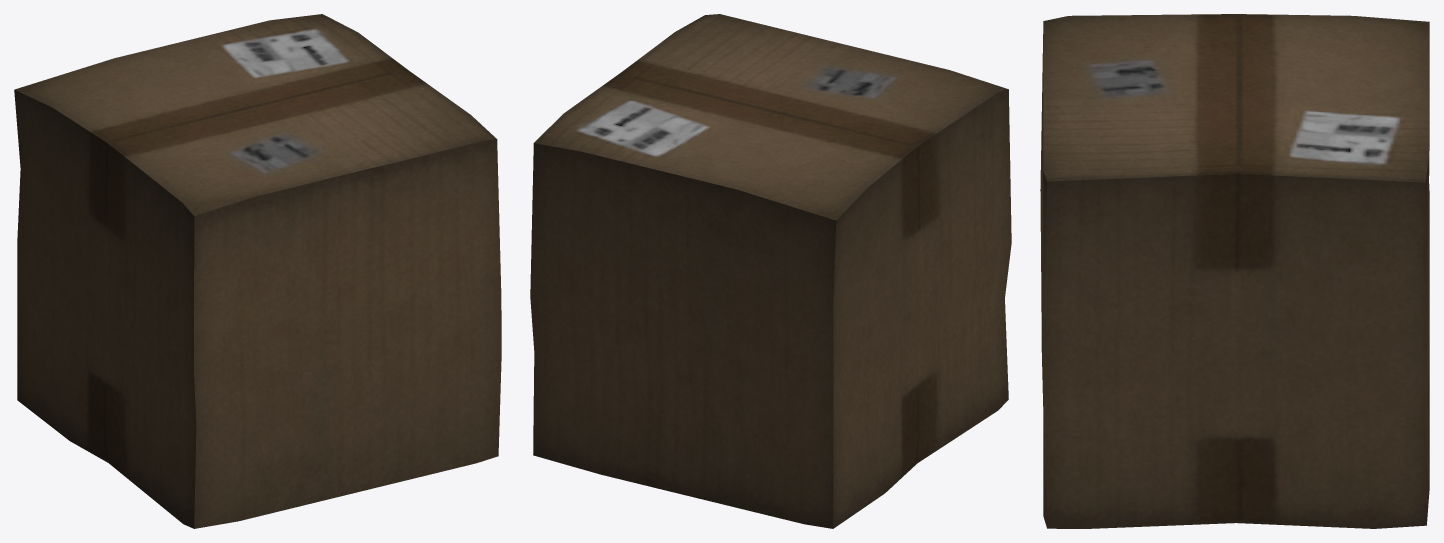
The model's file is cardboard_box_2.fbx.
3 renders of one model, left to right at view 1: azimuth 30°, elevation 25°; view 2: azimuth 150°, elevation 25°; view 3: azimuth 270°, elevation 25°, orthographic. The views are drawn at different scales.
Parts seen in each view (by area): view 1: cardboard_box_2; view 2: cardboard_box_2; view 3: cardboard_box_2.
Part boxes in pixels (x1,y1,x2,y2): cardboard_box_2: [14, 14, 501, 528]; cardboard_box_2: [530, 14, 1011, 528]; cardboard_box_2: [1040, 14, 1429, 528].
Size of the model in its own units: 72.97 by 72.62 by 72.54.
